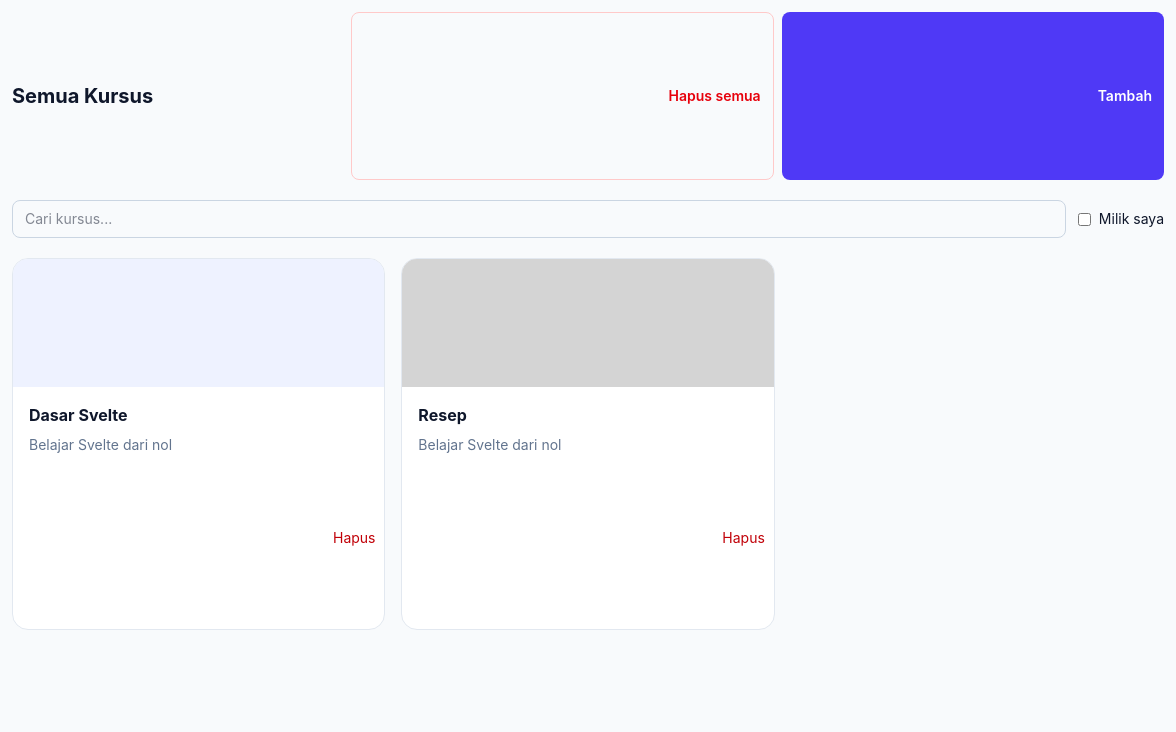
Test: HomePage › pencarian dan filter milik saya
The image size is (1176, 732).
Expected: the number of list items with test id "card" is 2, top-left (12, 258), bottom-right (385, 630); top-left (401, 258), bottom-right (775, 630)
Type "resep" into the search field labelled "Cari". click: [539, 219]
box: top-left (12, 200), bottom-right (1066, 238)
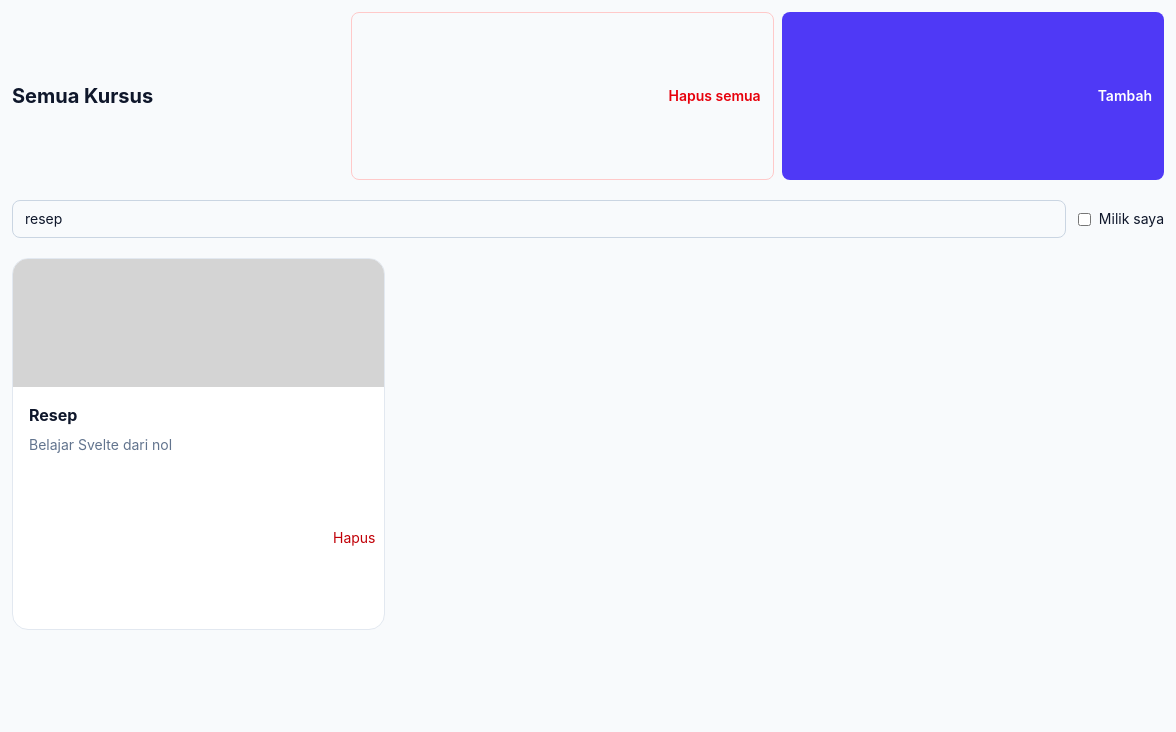
Expected: the number of list items with test id "card" is 1, top-left (12, 258), bottom-right (385, 630)
Clear the search field named "Cari". click: [539, 219]
box: top-left (12, 200), bottom-right (1066, 238)
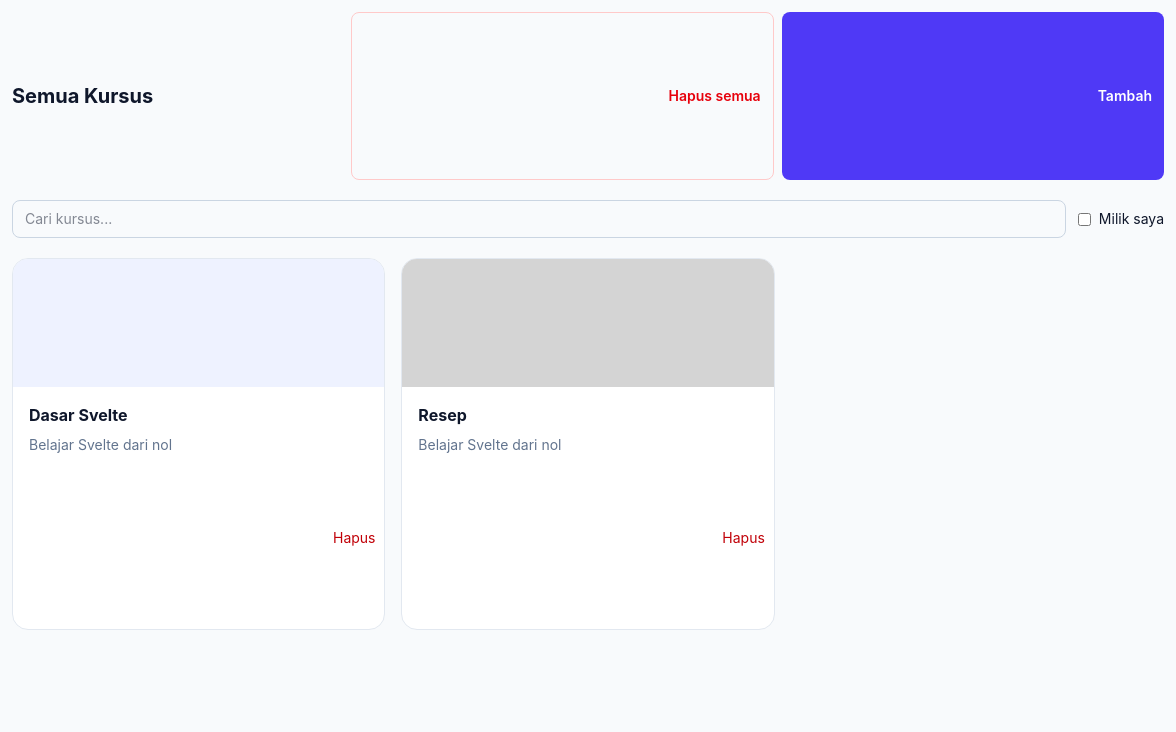
Click the checkbox labelled "Milik saya". click: [1084, 219]
box: top-left (1078, 212), bottom-right (1091, 226)
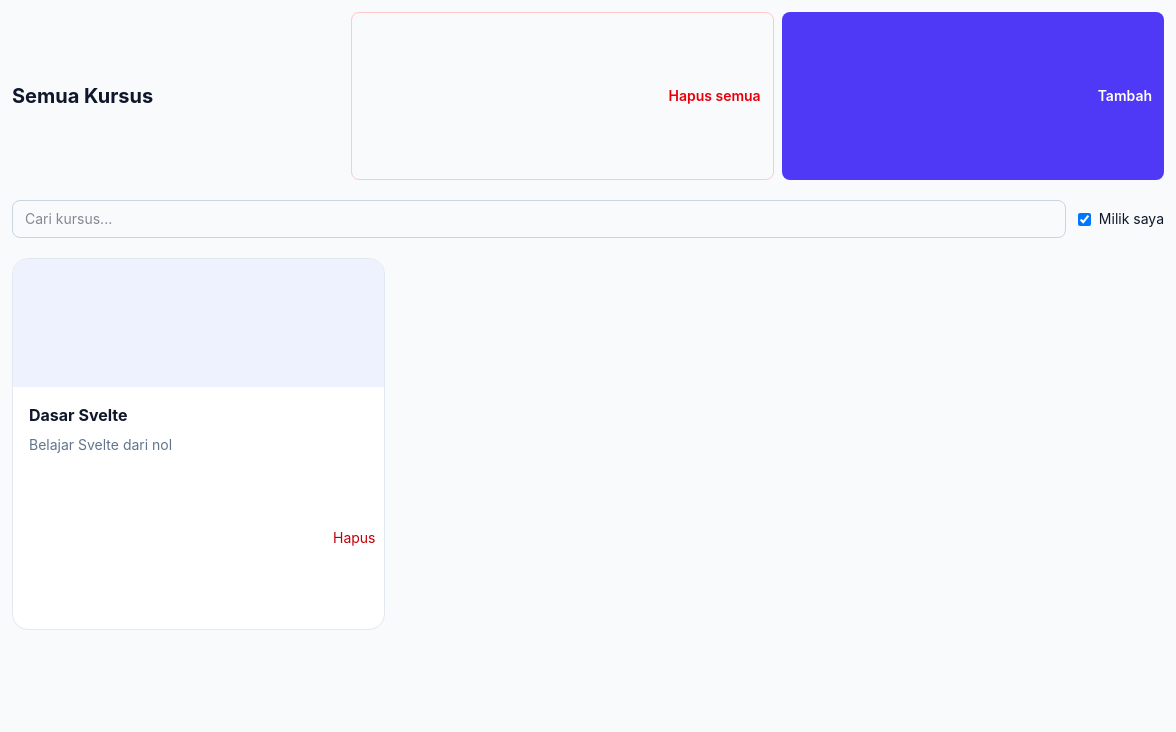
Expected: the number of list items with test id "card" is 1, top-left (12, 258), bottom-right (385, 630)
Type "zzz" into the search field labelled "Cari". click: [539, 219]
box: top-left (12, 200), bottom-right (1066, 238)
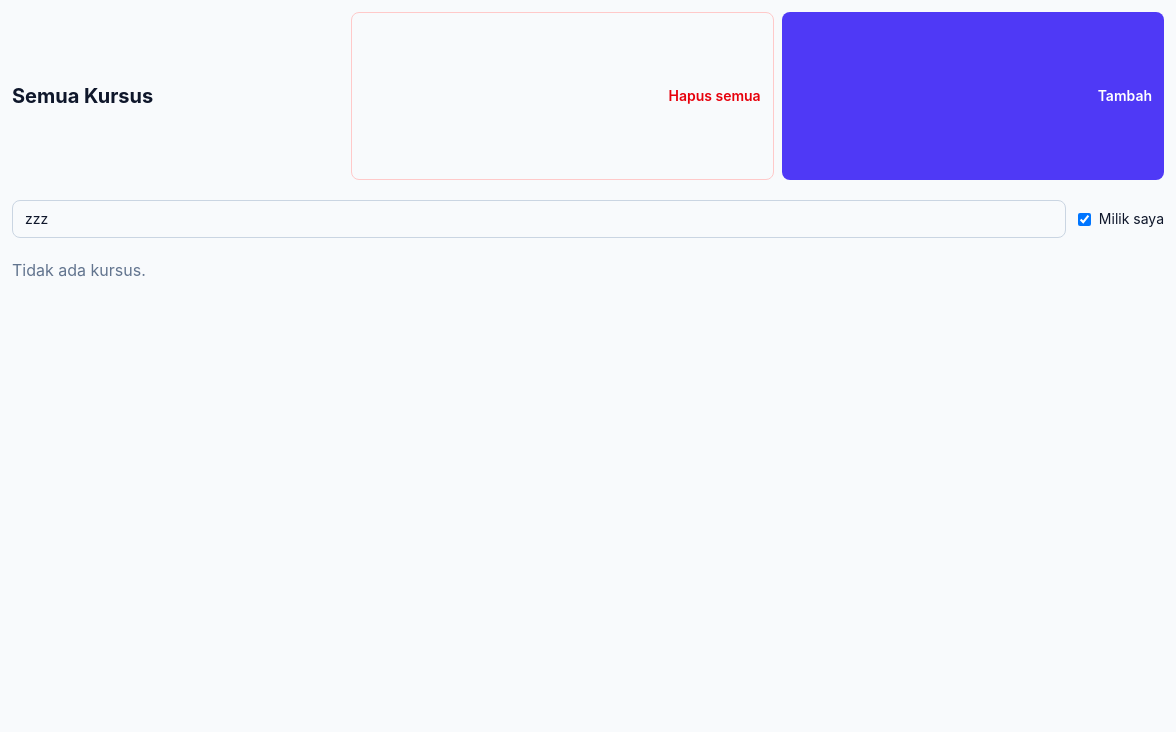
Expected: the text "Tidak ada kursus." is shown, top-left (12, 260), bottom-right (146, 280)
